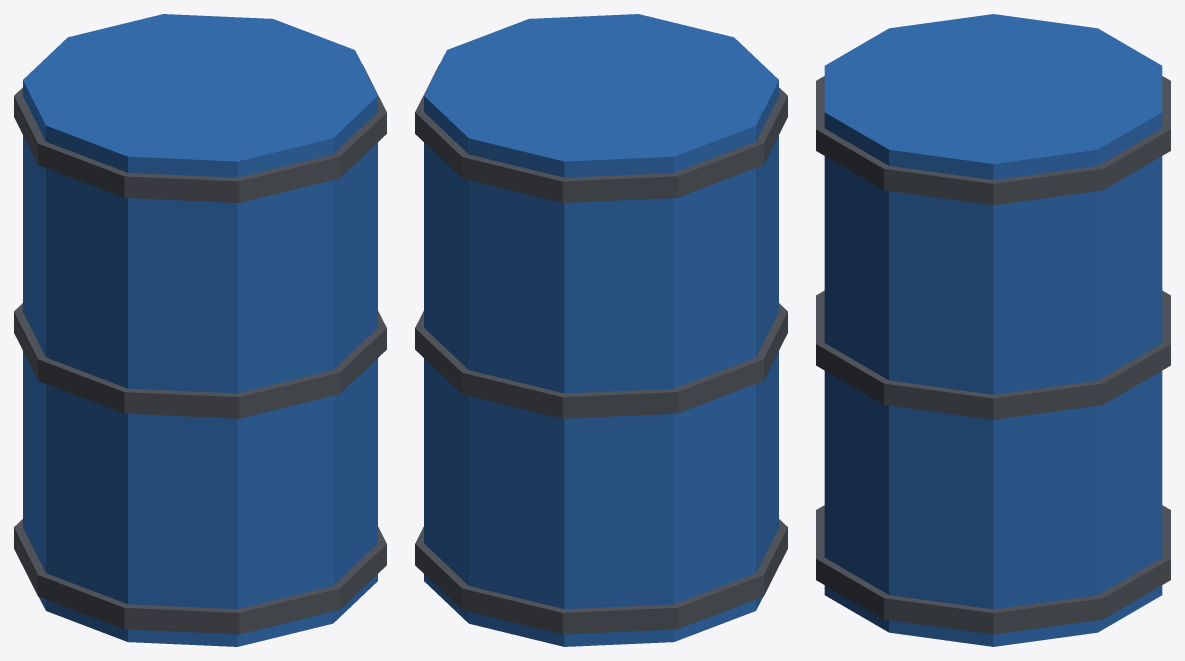
File: barrel_blue.glb
3 renders of one model, left to right at view 1: azimuth 30°, elevation 25°; view 2: azimuth 150°, elevation 25°; view 3: azimuth 270°, elevation 25°, orthographic.
Visible parts, largest first — view 1: barrel_blue; view 2: barrel_blue; view 3: barrel_blue.
Part boxes in pixels (x1=…): barrel_blue: x1=14, y1=14, x2=386, y2=646; barrel_blue: x1=415, y1=14, x2=787, y2=646; barrel_blue: x1=816, y1=14, x2=1170, y2=646.
Size of the model in its own units: 0.63 by 0.9 by 0.5992.
